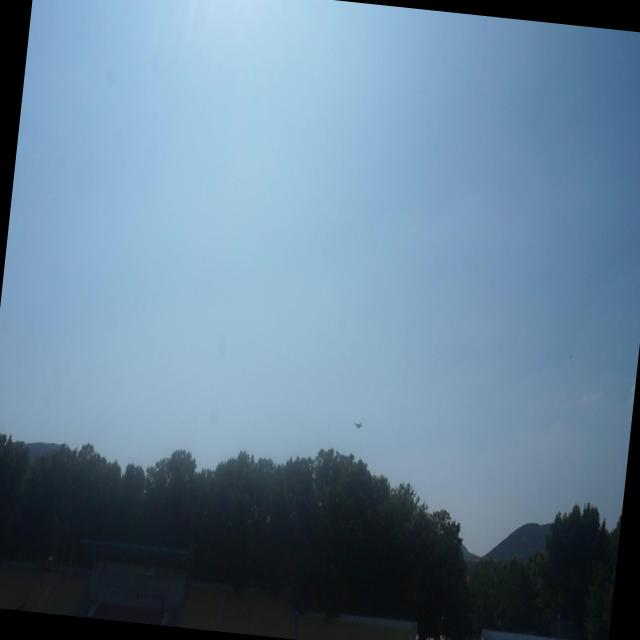drone: (350, 418, 364, 432)
